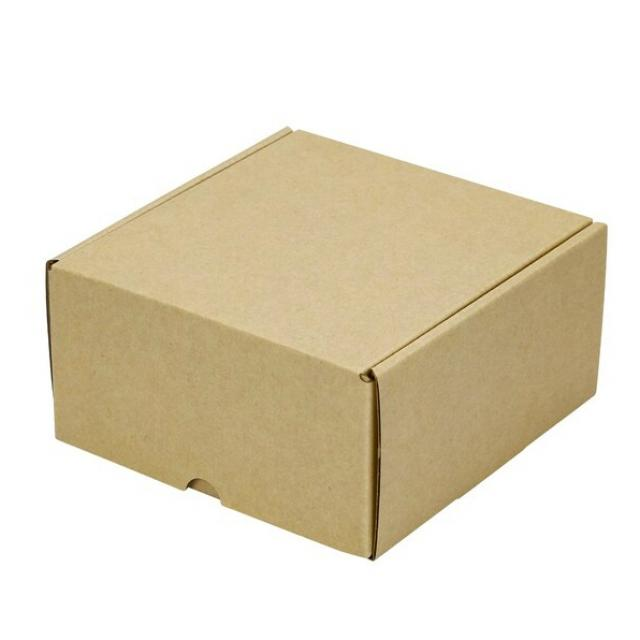box: (35, 110, 612, 574)
